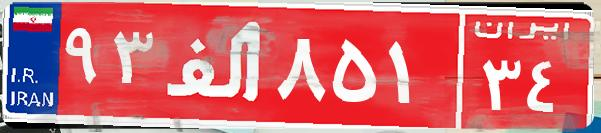1: (385, 28, 445, 110)
3: (475, 38, 525, 113), (110, 28, 158, 105)
4: (525, 38, 570, 115)
5: (330, 28, 385, 110)
8: (273, 28, 330, 110)
9: (57, 26, 110, 107)
الف: (158, 15, 273, 115)
